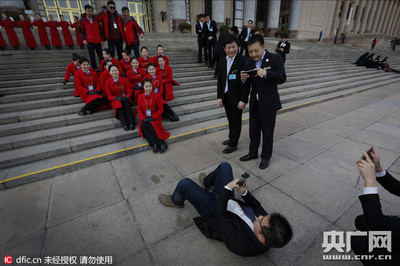10+: (1, 1, 400, 264)
down: (157, 161, 298, 253)
